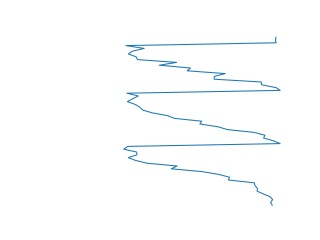distributaryMouthBar: (119, 35, 283, 209)
